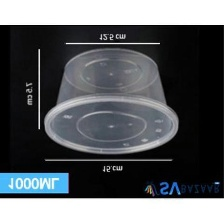plastic_box: (38, 43, 182, 160)
